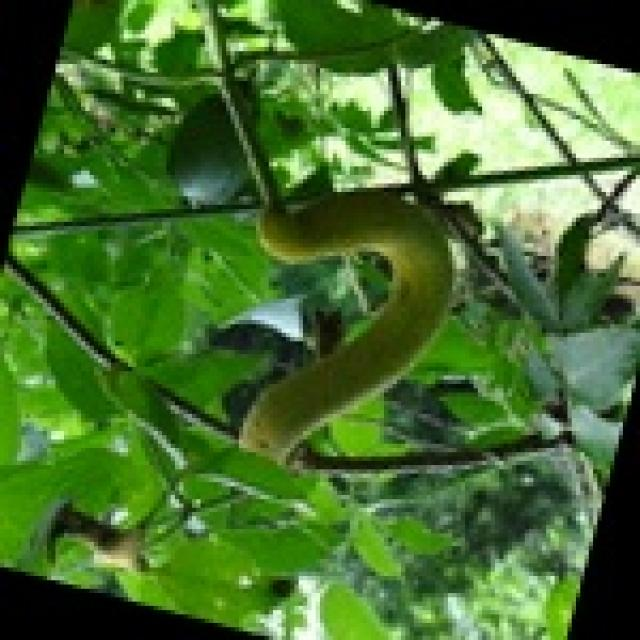Elderberry_rust: (230, 179, 457, 465)
